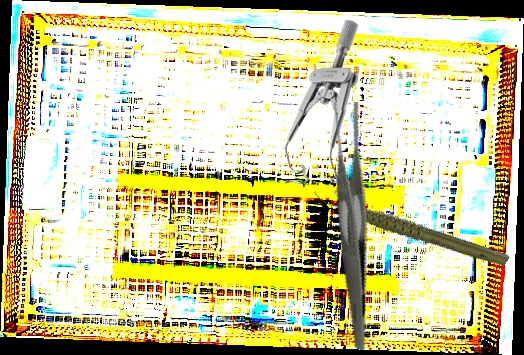Dressing Forceps: (274, 96, 426, 351)
Handpiece: (310, 148, 512, 305)
Speculum: (279, 19, 363, 202)
